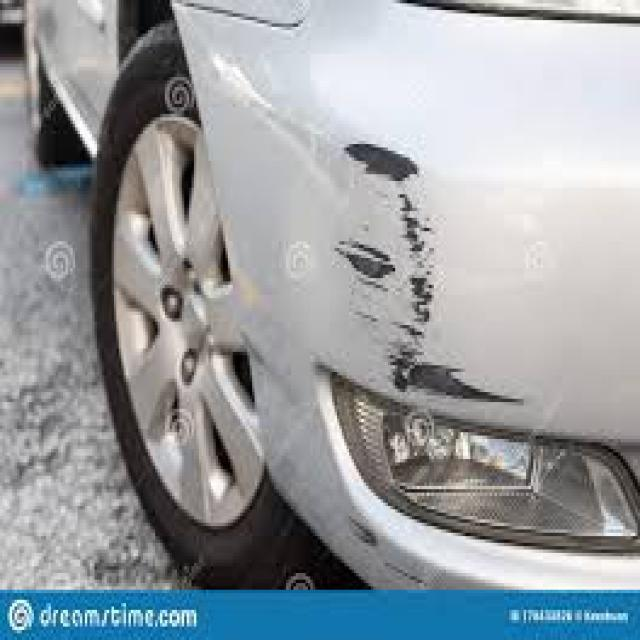front-bumper-dent: (155, 3, 638, 592)
